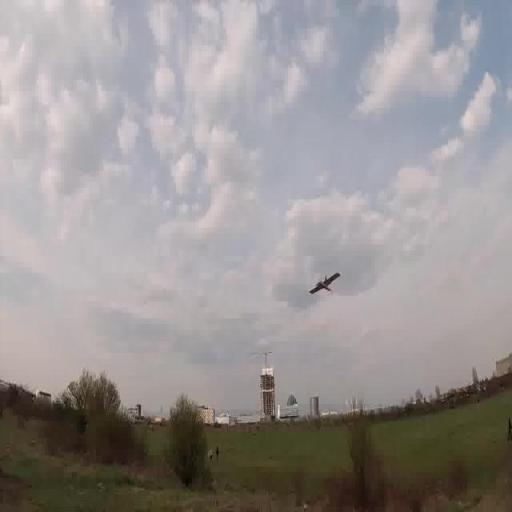uav: (308, 268, 343, 303)
